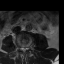CCS_normal: (22, 45, 25, 54)
LFS_normal: (27, 44, 29, 51)
LLS_stenosis: (25, 45, 27, 53)
RFS_stenosis: (18, 45, 20, 53)
RLS_normal: (20, 45, 22, 53)
